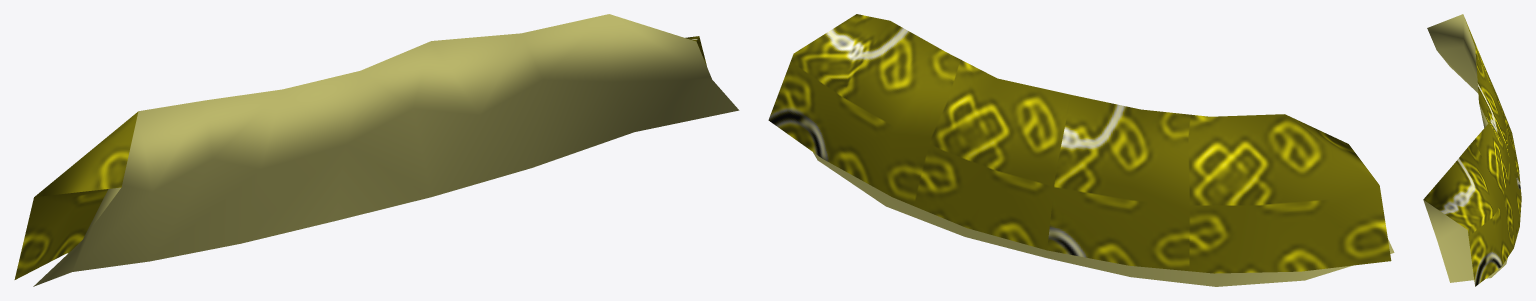
File: Kerah.fbx
3 views of the same model, side by side, from view 1: azimuth 30°, elevation 25°; view 2: azimuth 150°, elevation 25°; view 3: azimuth 270°, elevation 25° (orthographic). The views are drawn at different scales.
Parts seen in each view (by area): view 1: Kerah.001; view 2: Kerah.001; view 3: Kerah.001.
Boxes of the visible parts, x1,y1,x2,y2 form: Kerah.001: [14, 14, 739, 286]; Kerah.001: [768, 14, 1394, 286]; Kerah.001: [1423, 14, 1521, 286].
Bounding box in the file's own units: 145 × 37.89 × 27.24.
Materials: 2 (1 with a texture image).
